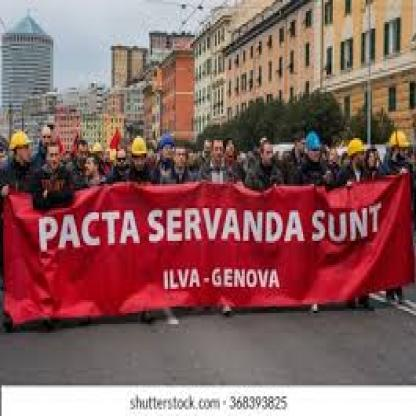BANNER: (3, 173, 416, 333)
